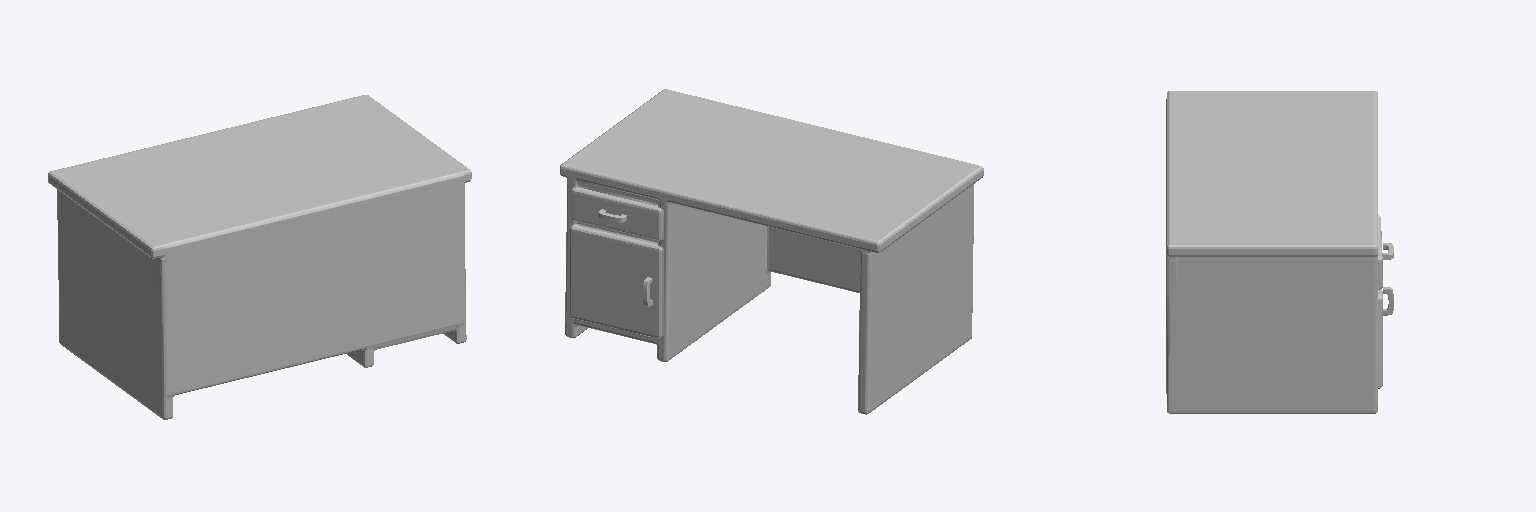
The model's file is schreibtisch_3.obj.
The picture shows the model from 3 angles: view 1: azimuth 30°, elevation 25°; view 2: azimuth 150°, elevation 25°; view 3: azimuth 270°, elevation 25°; orthographic projection.
Parts seen in each view (by area): view 1: 282367_23_05_24_18_12_22_3; view 2: 282367_23_05_24_18_12_22_3; view 3: 282367_23_05_24_18_12_22_3.
Boxes of the visible parts, box(x1,y1,x2,y2) form: 282367_23_05_24_18_12_22_3: box(48, 95, 471, 419); 282367_23_05_24_18_12_22_3: box(560, 89, 983, 414); 282367_23_05_24_18_12_22_3: box(1166, 91, 1382, 413).
Bounding box in the file's own units: 8.55 × 4.49 × 5.26.